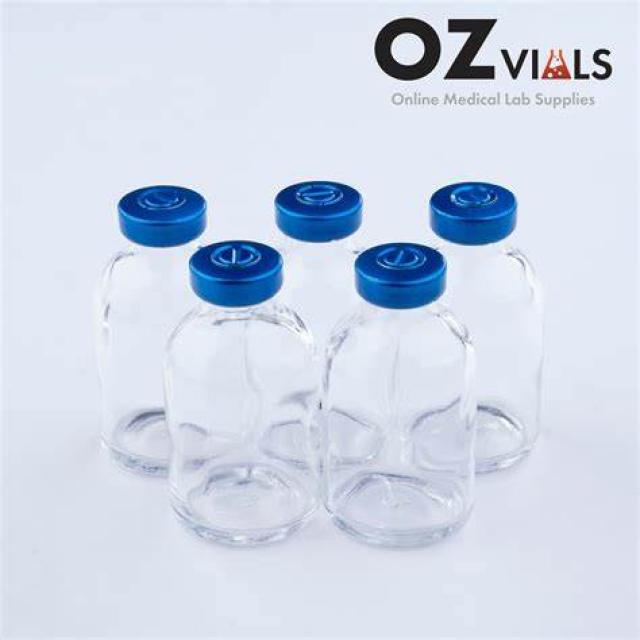vial: (354, 240, 444, 288), (283, 174, 366, 222), (190, 238, 282, 280), (120, 186, 218, 224), (432, 182, 522, 222)
